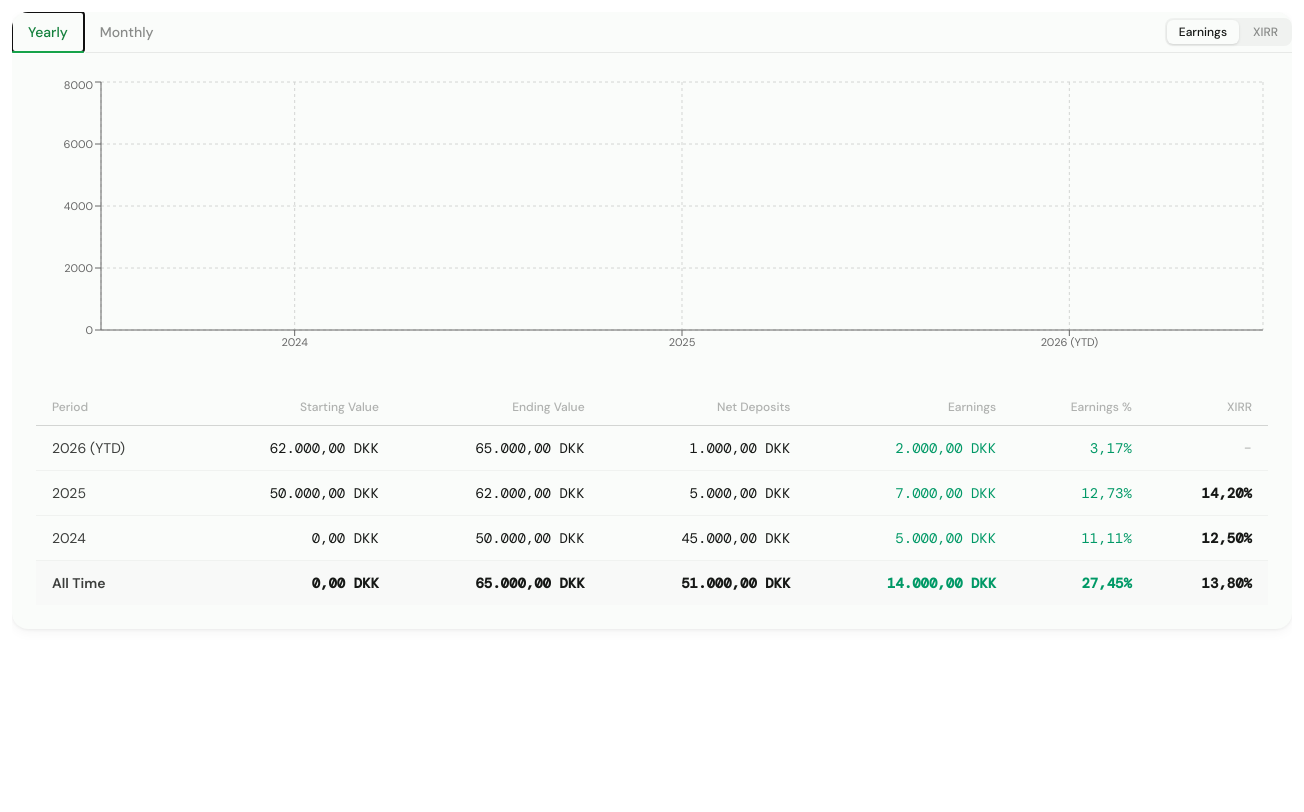
PlatformDetailPerfTabs › monthly tab › renders a table with 6 columns
Click the tab "Monthly".
click(127, 32)  # box [84,12,170,52]
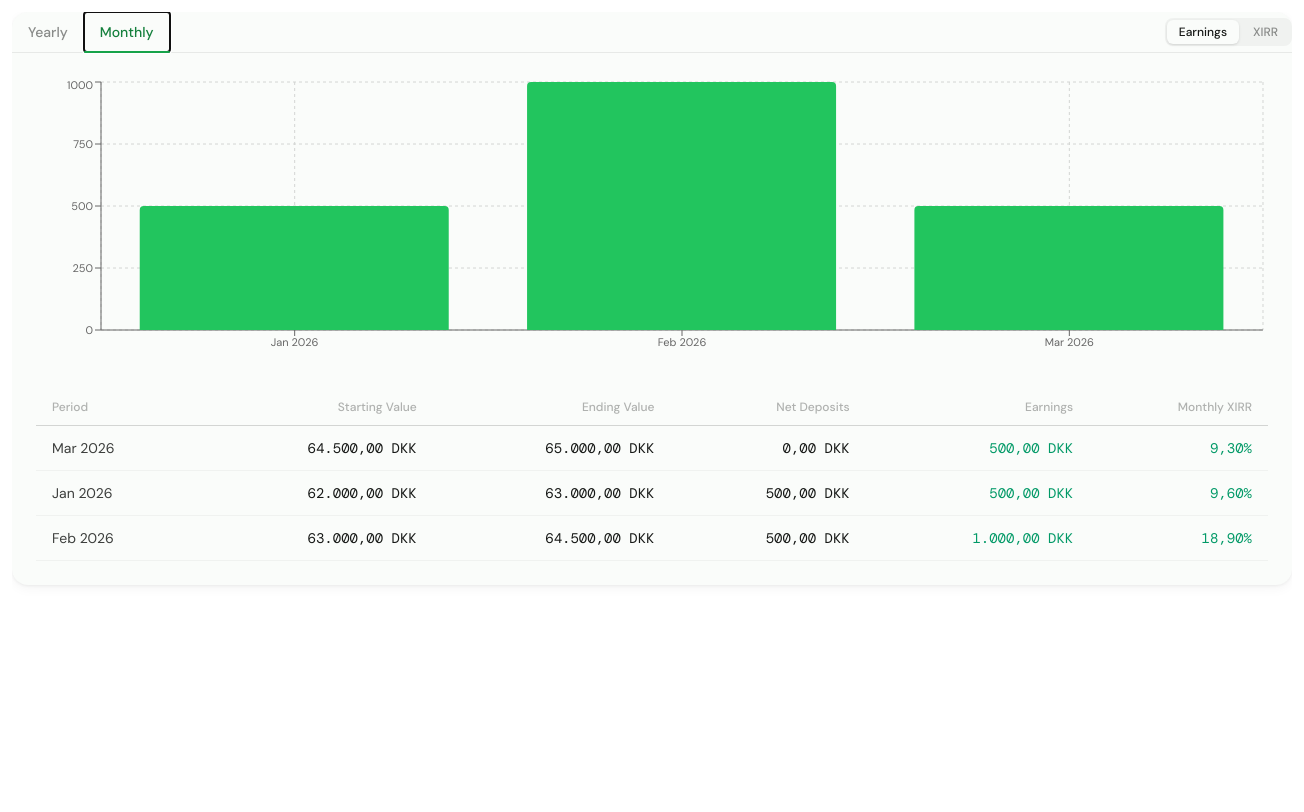
Expected: the column heading "Period" is shown, [36,389,195,426]
Now the number of column headings is 6, box [36,389,195,426]; [195,389,433,426]; [433,389,670,426]; [670,389,866,426]; [866,389,1089,426]; [1089,389,1268,426]
Now the column heading "Monthly XIRR" is shown, box [1089,389,1268,426]
